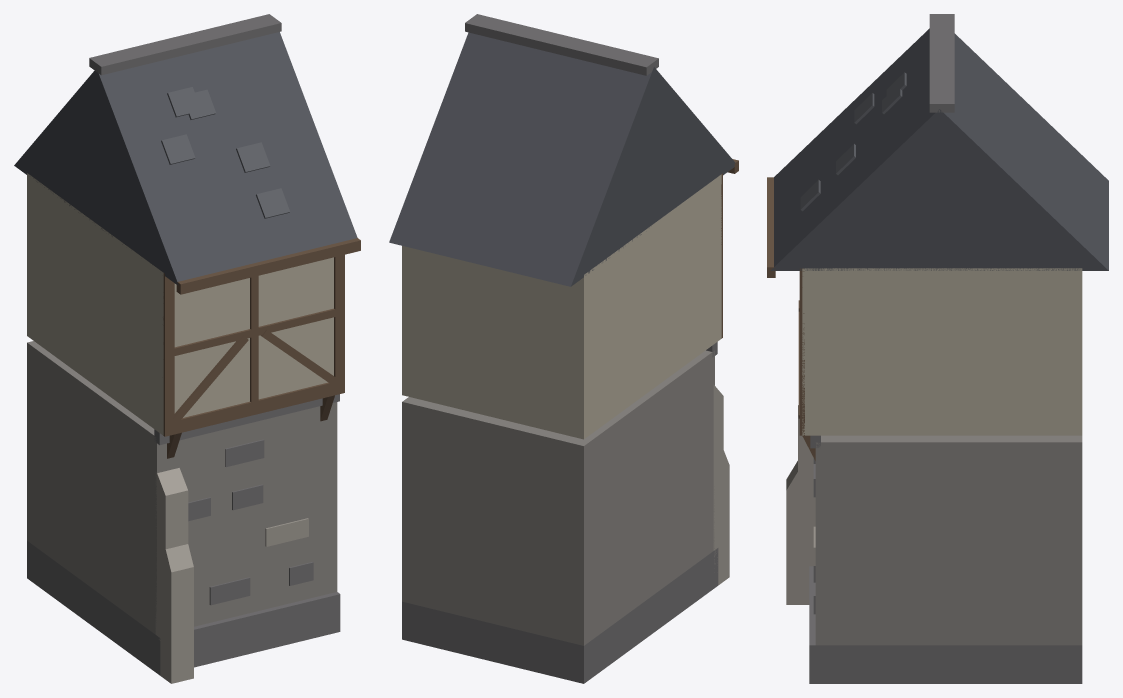
Rendered from range_plain.glb.
3 renders of one model, left to right at view 1: azimuth 30°, elevation 25°; view 2: azimuth 150°, elevation 25°; view 3: azimuth 270°, elevation 25°, orthographic. The views are drawn at different scales.
Parts seen in each view (by area): view 1: Upper, Plinth; view 2: Upper, Plinth; view 3: Upper, Plinth.
Boxes of the visible parts, <box> form: Upper: <box>14,14,360,683</box>; Plinth: <box>27,541,340,683</box>; Upper: <box>389,14,738,645</box>; Plinth: <box>402,535,729,683</box>; Upper: <box>767,14,1108,645</box>; Plinth: <box>786,561,1082,683</box>.
Bounding box in the file's own units: 4 × 12 × 6.41.
